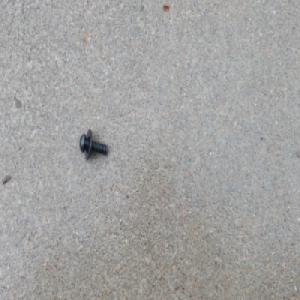BoltWasher: (79, 130, 108, 164)
